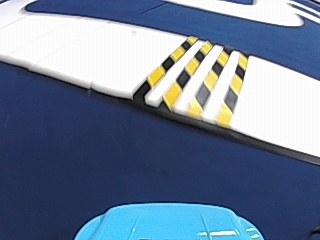bump: (133, 36, 254, 120)
